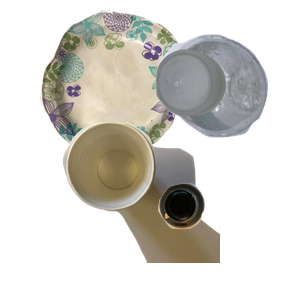glass: (156, 181, 300, 300)
paper: (37, 10, 219, 167)
plastic: (153, 31, 300, 161)
trash: (60, 120, 300, 300)
